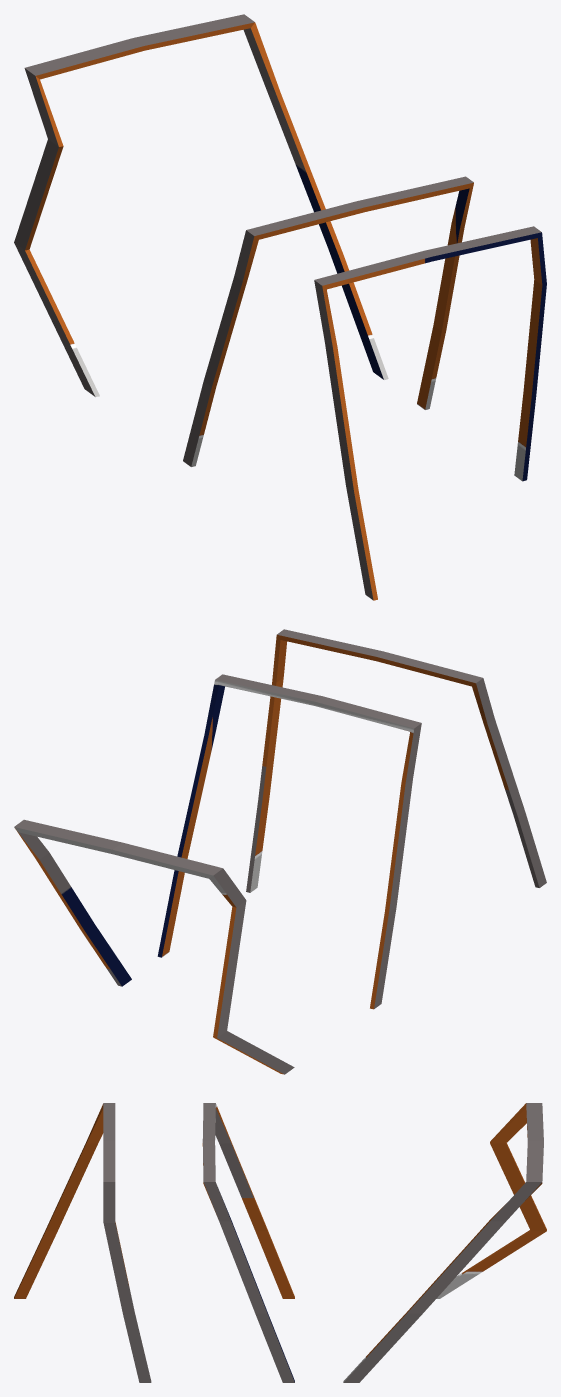
The model's file is CorridoeLights.fbx.
3 views of the same model, one above another, from view 1: azimuth 30°, elevation 25°; view 2: azimuth 150°, elevation 25°; view 3: azimuth 270°, elevation 25° (orthographic). The views are drawn at different scales.
Parts seen in each view (by area): view 1: Ship_Top; view 2: Ship_Top; view 3: Ship_Top.
Boxes of the visible parts, bbox=[...] form: Ship_Top: bbox=[14, 14, 546, 600]; Ship_Top: bbox=[14, 629, 546, 1074]; Ship_Top: bbox=[14, 1103, 546, 1382].
Size of the model in its own units: 279 by 302 by 732.
1 material, 1 textured.
